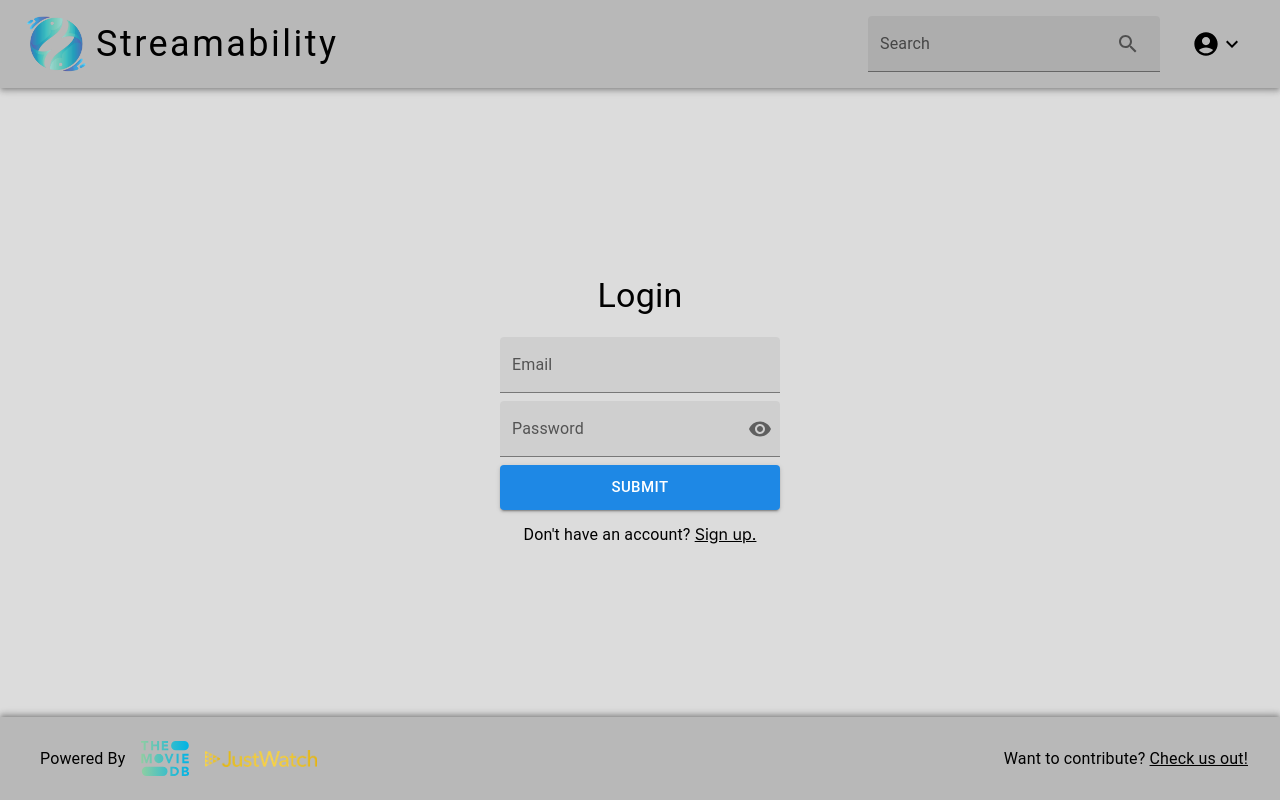
Test: Login Screen › does not allow submission with one empty input
The width and height of the screenshot is (1280, 800).
Expected: the element with test id "login-screen" is shown, [500,275,780,544]
In the field labelled "Email": {"x": 640, "y": 365} [500,337,780,393], type "valid@email.com"
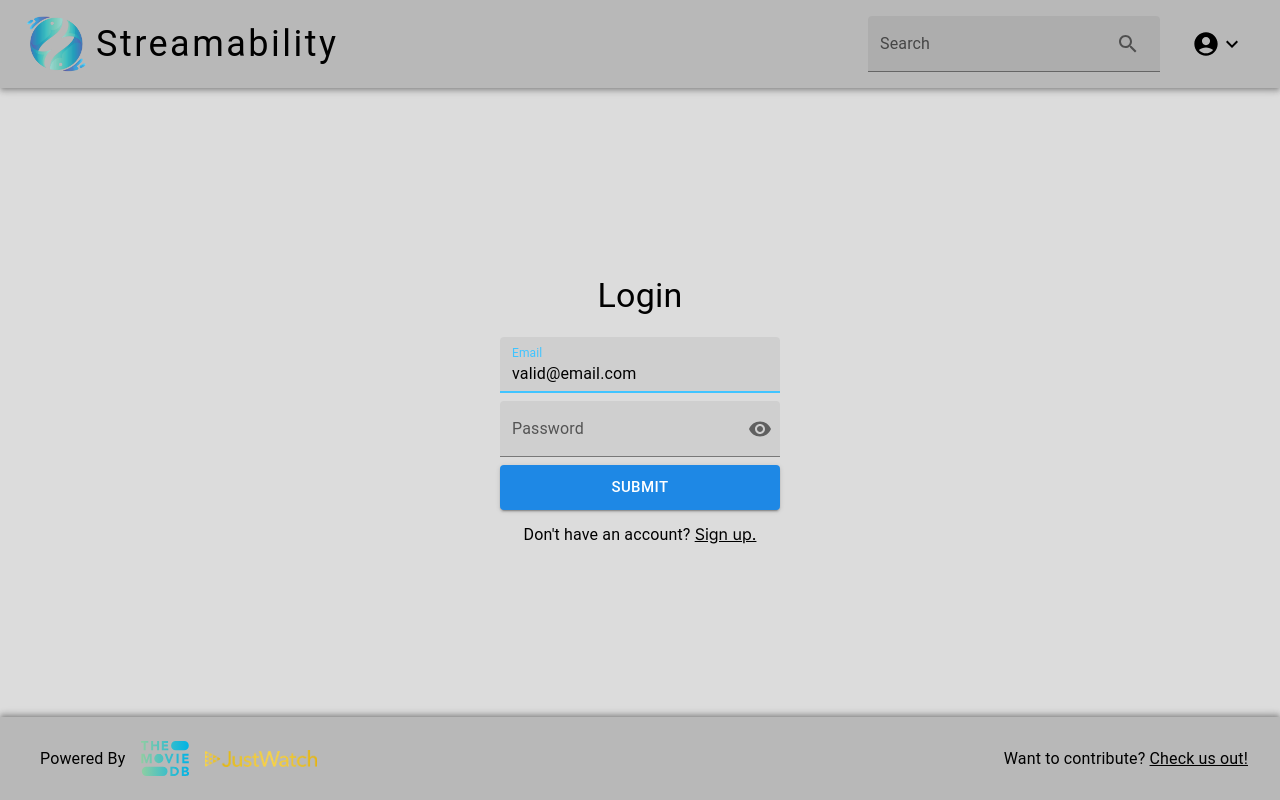
Click the button "Submit": {"x": 640, "y": 487} [500,465,780,510]
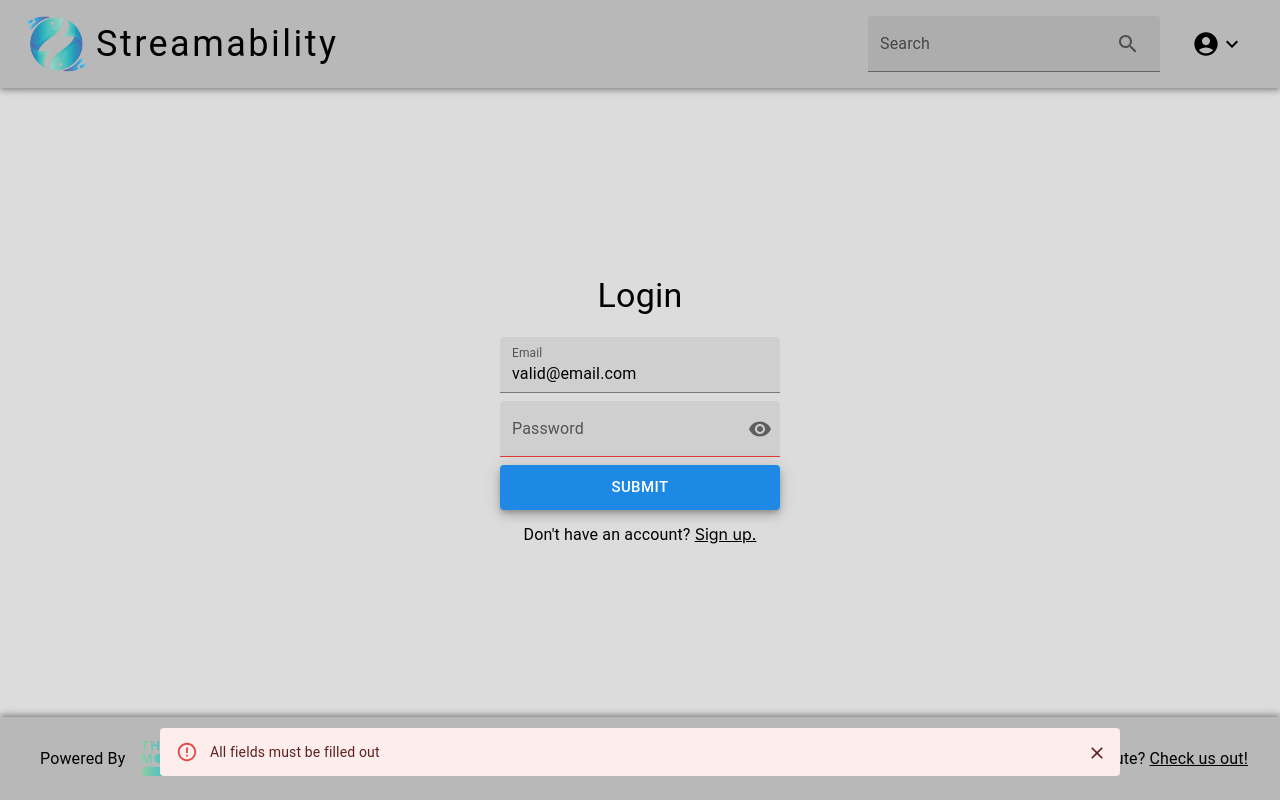
Expected: the text "All fields must be filled out" is shown, [210,744,380,760]
